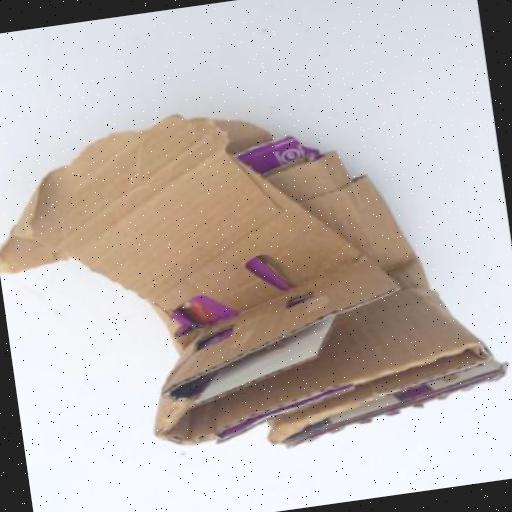cardboard: (0, 76, 505, 485), (0, 79, 498, 470), (0, 88, 411, 428)
